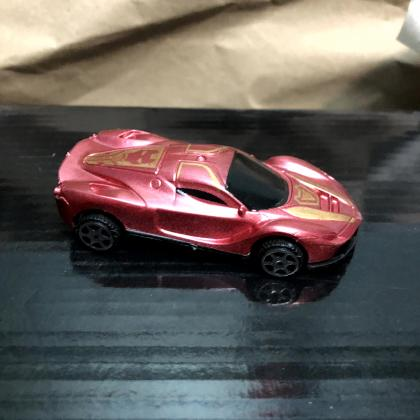Car: (53, 130, 363, 279)
